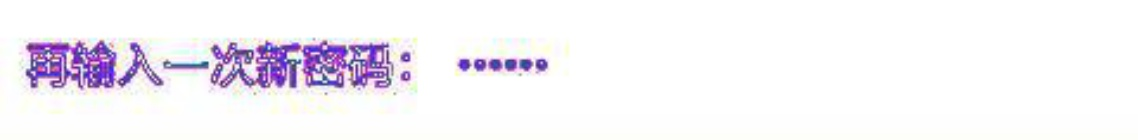EditText: (1, 1, 1137, 139)
